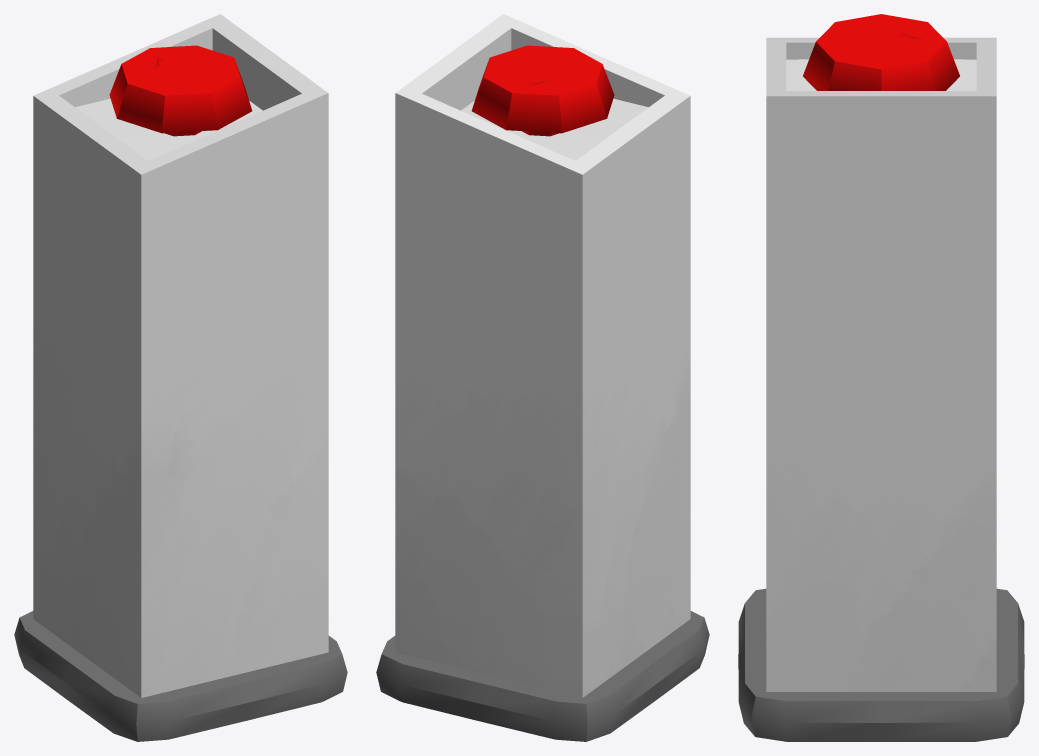
File: Button_Pedestal.fbx
3 views of the same model, side by side, from view 1: azimuth 30°, elevation 25°; view 2: azimuth 150°, elevation 25°; view 3: azimuth 270°, elevation 25° (orthographic). The views are drawn at different scales.
Parts seen in each view (by area): view 1: Panel, Button; view 2: Panel, Button; view 3: Panel, Button.
Part boxes in pixels (x1=…): Panel: x1=14, y1=14, x2=347, y2=741; Button: x1=109, y1=45, x2=252, y2=136; Panel: x1=376, y1=14, x2=709, y2=741; Button: x1=471, y1=45, x2=614, y2=136; Panel: x1=738, y1=37, x2=1024, y2=741; Button: x1=803, y1=14, x2=959, y2=90.
Size of the model in its own units: 20.59 by 50.98 by 20.59.
